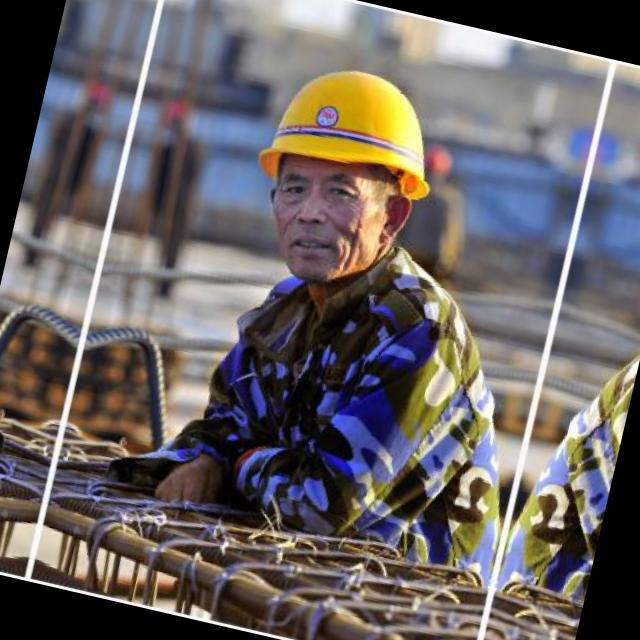helmet: (213, 32, 475, 316)
